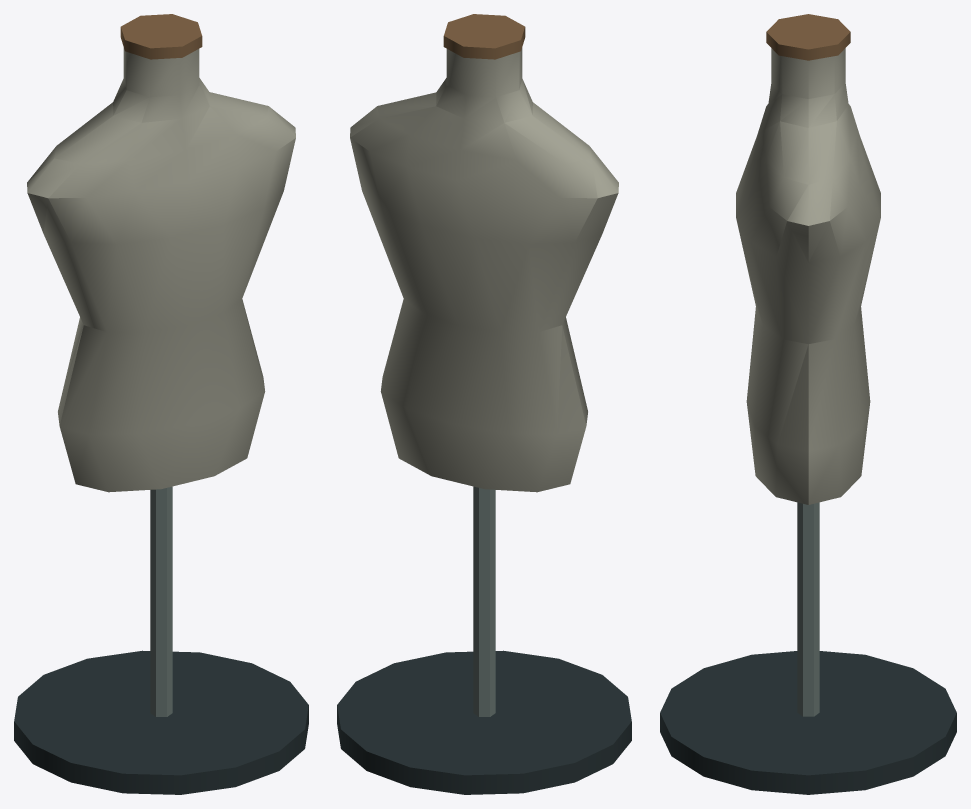
3 renders of one model, left to right at view 1: azimuth 30°, elevation 25°; view 2: azimuth 150°, elevation 25°; view 3: azimuth 270°, elevation 25°, orthographic.
Parts seen in each view (by area): view 1: a199-outline; view 2: a199-outline; view 3: a199-outline.
Part boxes in pixels (left/top/right/bottom): a199-outline: left=14, top=14, right=308, bottom=794; a199-outline: left=337, top=14, right=631, bottom=794; a199-outline: left=660, top=14, right=956, bottom=794.
Size of the model in its own units: 0.5 by 1.25 by 0.48.
